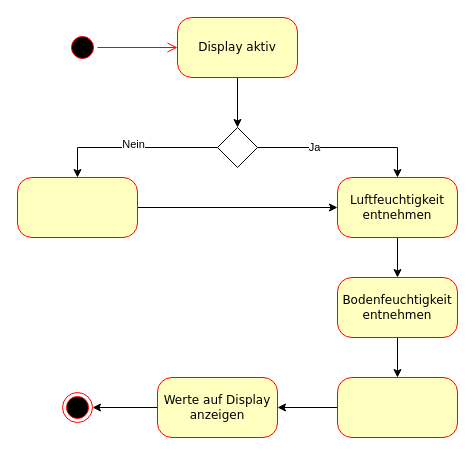
This 475x455 diagram has some shape labels left out. Each missing label, with the centre of its shape:
Display anschalten: the point at 77,207
Lichtwert entnehmen: the point at 397,407
